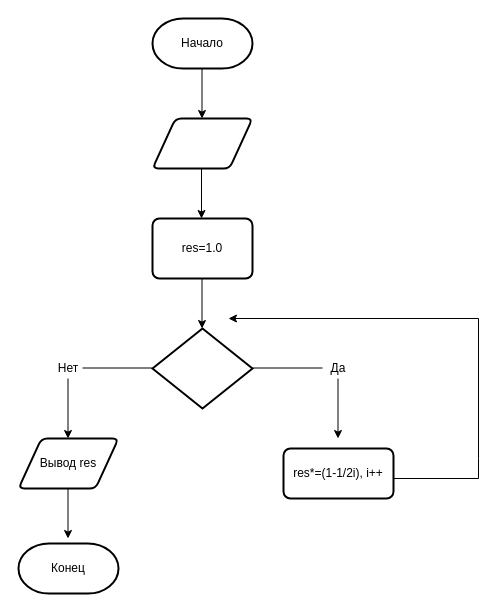
Some shapes in this 504 by 611 pixel diagram are drawn without their labels. The box of each missing label's shape, as (x1, y1, x2, y2) in pixels:
i<=n?: (151, 327, 253, 409)
Ввод n: (151, 117, 253, 169)
